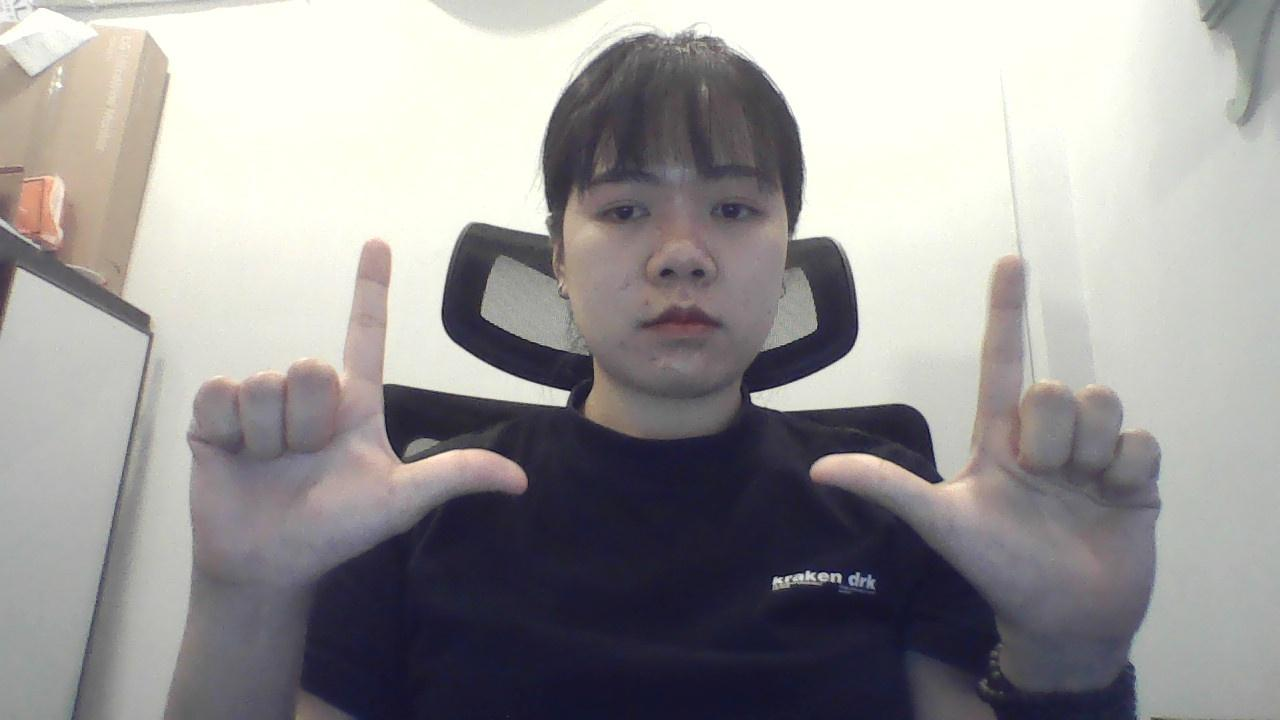L: (804, 234, 1184, 667), (186, 217, 537, 579)
